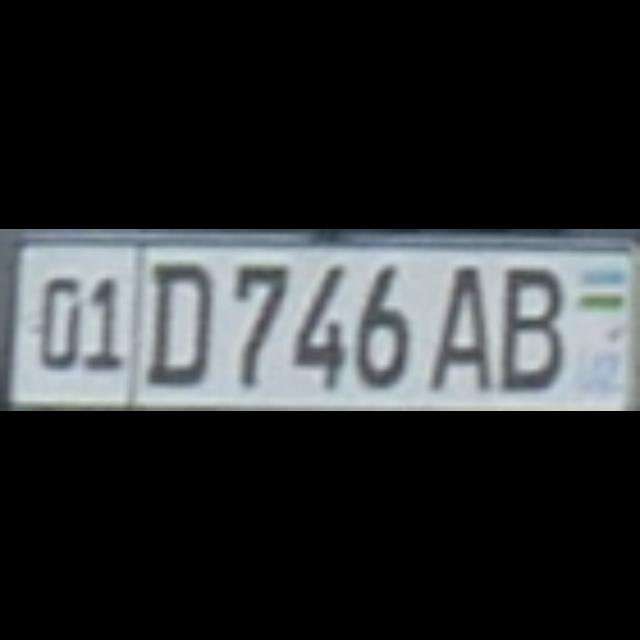0: (37, 274, 69, 362)
1: (78, 274, 114, 362)
4: (292, 262, 338, 384)
6: (356, 260, 402, 380)
7: (229, 260, 279, 380)
A: (430, 262, 484, 384)
B: (498, 262, 558, 384)
D: (147, 256, 206, 384)
